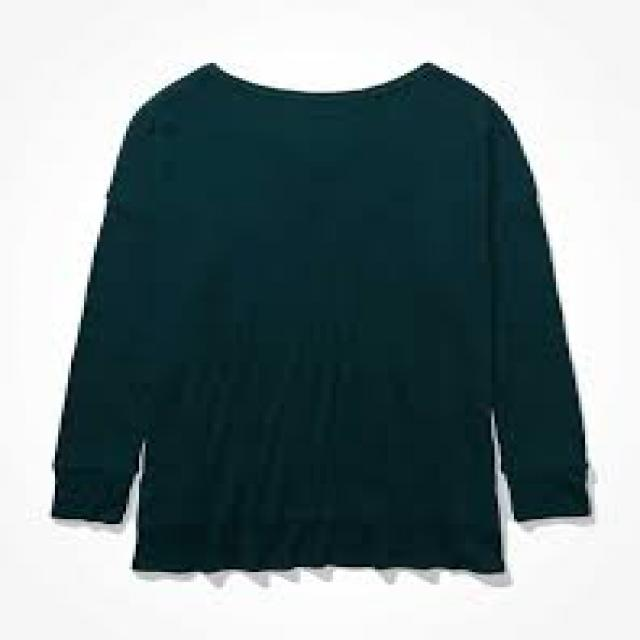plain: (41, 58, 604, 572)
